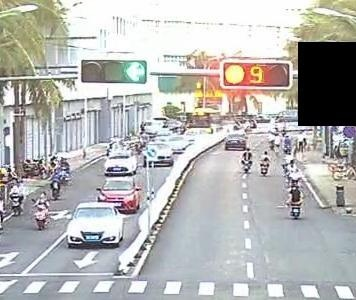greenleft: (123, 63, 147, 84)
red: (224, 63, 247, 86)
redtime: (250, 64, 266, 86)
